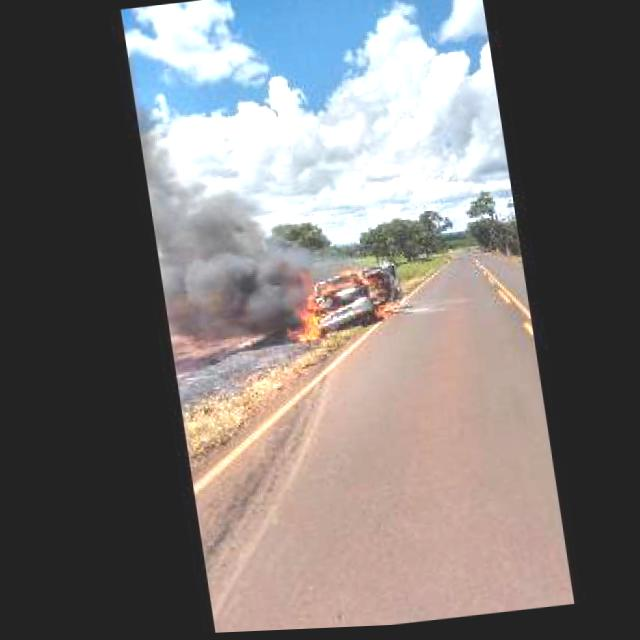Fire: (335, 265, 387, 326), (278, 292, 317, 345)
Smoke: (143, 171, 312, 346)
